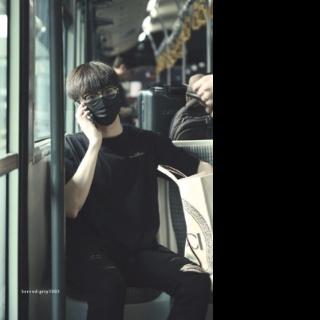with_mask: (80, 84, 121, 126)
